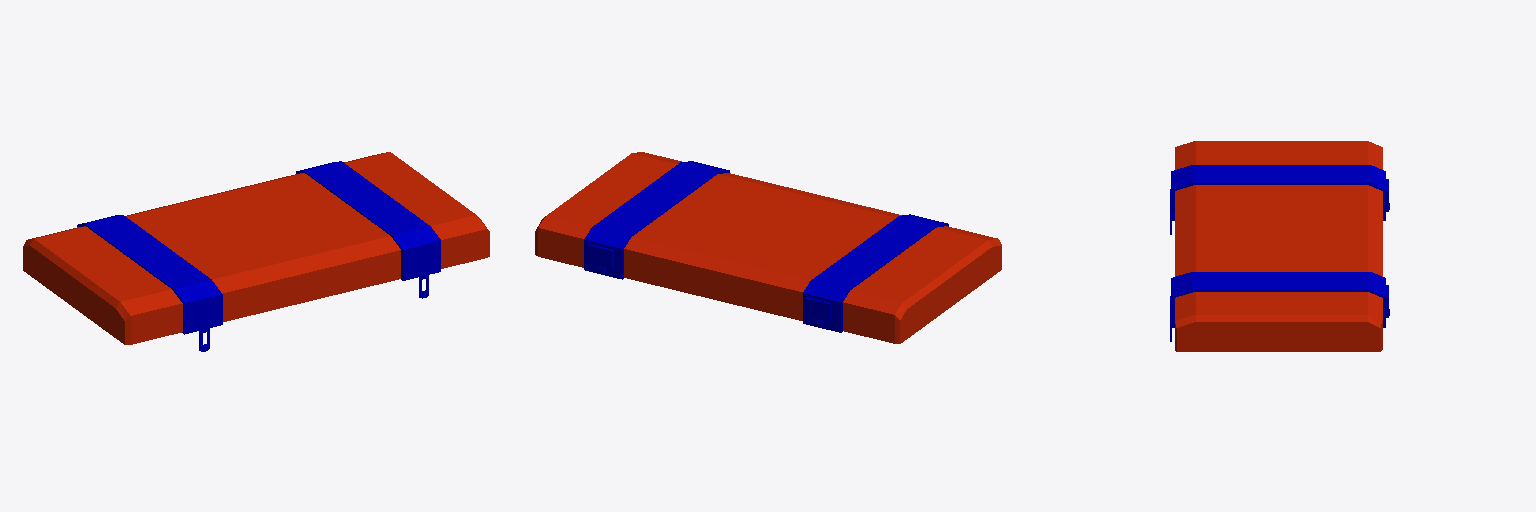
Rendered from bau_tampa.obj.
3 renders of one model, left to right at view 1: azimuth 30°, elevation 25°; view 2: azimuth 150°, elevation 25°; view 3: azimuth 270°, elevation 25°, orthographic.
Visible parts, largest first — view 1: Plane.000_Plane.009; view 2: Plane.000_Plane.009; view 3: Plane.000_Plane.009.
Part boxes in pixels (x1,y1,x2,y2): Plane.000_Plane.009: (23,152,489,351); Plane.000_Plane.009: (535,152,1001,343); Plane.000_Plane.009: (1170,141,1389,351).
Bounding box in the file's own units: 1.02 × 0.1583 × 0.5301.